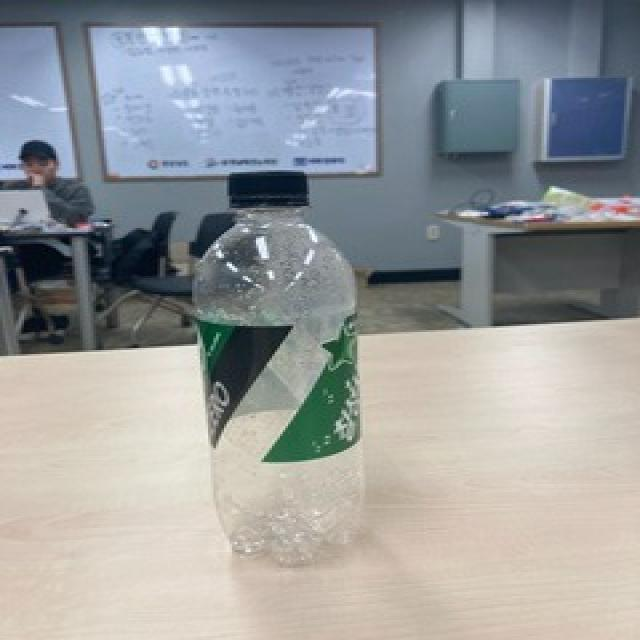good: (189, 163, 368, 573)
